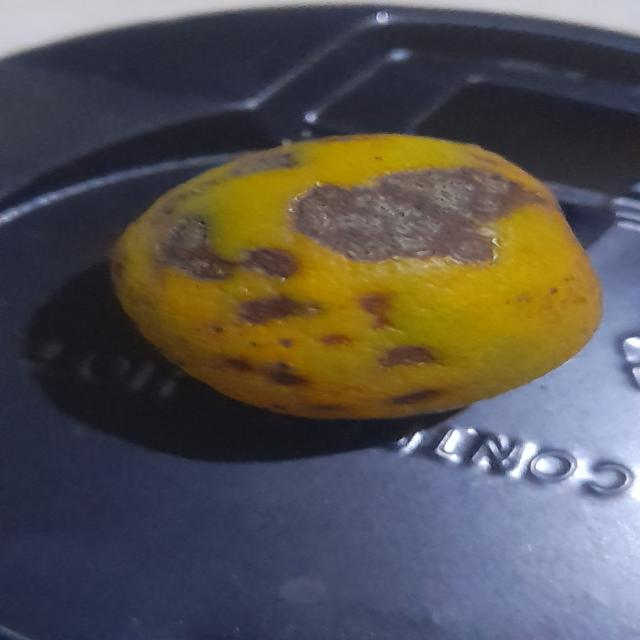black spot: (92, 111, 620, 428)
